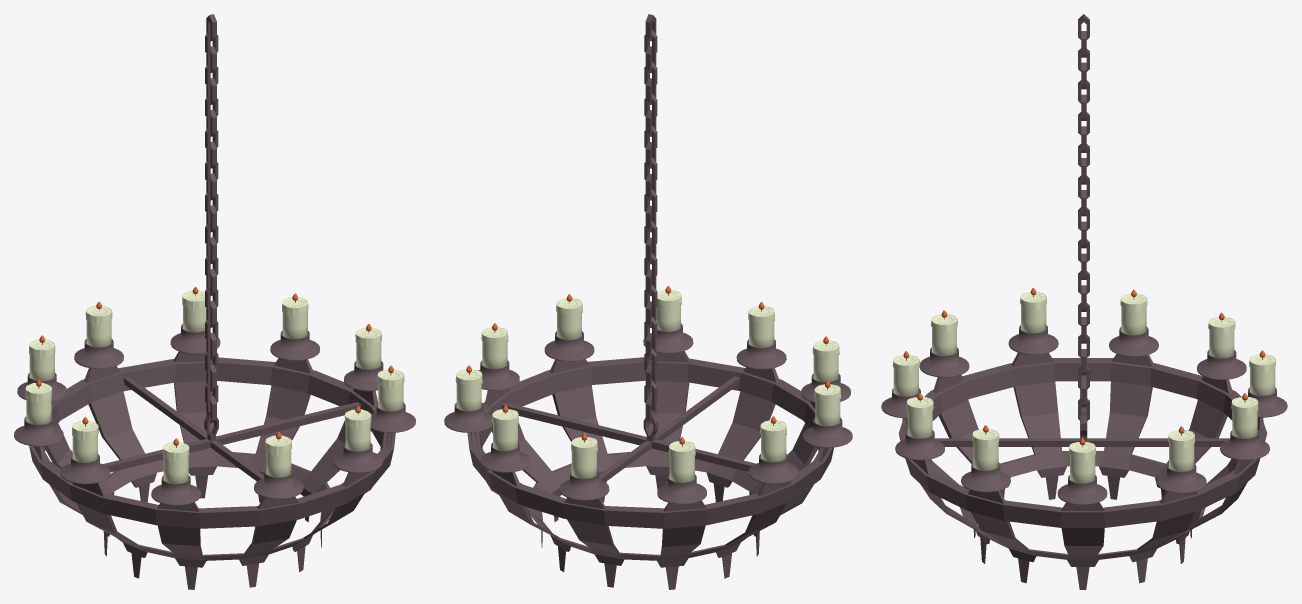
The model's file is Chandelier.fbx.
3 views of the same model, side by side, from view 1: azimuth 30°, elevation 25°; view 2: azimuth 150°, elevation 25°; view 3: azimuth 270°, elevation 25° (orthographic).
Visible parts, largest first — view 1: Base_Chandelier, Cube.006, SupportChandellier, Chandelle_9, Chandelle_11, Chandelle_8, Chandelle_4, Chandelle_2, Chandelle_7, Chandelle_10, Chandelle_6, Chandelle_3 (+13 smaller); view 2: Base_Chandelier, Cube.006, SupportChandellier, Chandelle_1, Chandelle_8, Chandelle_10, Chandelle_11, Chandelle_2, Chandelle_3, Chandelle_6, Chandelle_4, Chandelle_5 (+13 smaller); view 3: Base_Chandelier, Cube.006, SupportChandellier, Chandelle_6, Chandelle_7, Chandelle_3, Chandelle_4, Chandelle_11, Chandelle_9, Chandelle_1, Chandelle_10, Chandelle_5 (+13 smaller).
Part boxes in pixels (left/top/right/bottom): Base_Chandelier: left=29, top=351, right=395, bottom=589; Cube.006: left=205, top=14, right=218, bottom=423; SupportChandellier: left=103, top=377, right=360, bottom=481; Chandelle_9: left=151, top=475, right=200, bottom=505; Chandelle_11: left=14, top=416, right=63, bottom=446; Chandelle_8: left=254, top=469, right=303, bottom=499; Chandelle_4: left=270, top=330, right=319, bottom=360; Chandelle_2: left=74, top=339, right=123, bottom=368; Chandelle_7: left=333, top=443, right=382, bottom=472; Chandelle_10: left=60, top=454, right=110, bottom=484; Chandelle_6: left=370, top=403, right=415, bottom=432; Chandelle_3: left=170, top=324, right=220, bottom=353; Base_Chandelier: left=467, top=351, right=833, bottom=589; Cube.006: left=644, top=14, right=657, bottom=423; SupportChandellier: left=501, top=376, right=755, bottom=481; Chandelle_1: left=657, top=474, right=706, bottom=504; Chandelle_8: left=736, top=339, right=786, bottom=369; Chandelle_10: left=803, top=417, right=852, bottom=447; Chandelle_11: left=748, top=454, right=798, bottom=483; Chandelle_2: left=559, top=470, right=609, bottom=500; Chandelle_3: left=480, top=442, right=530, bottom=472; Chandelle_6: left=544, top=331, right=594, bottom=361; Chandelle_4: left=444, top=402, right=492, bottom=432; Chandelle_5: left=478, top=360, right=519, bottom=390; Base_Chandelier: left=898, top=353, right=1267, bottom=589; Cube.006: left=1078, top=14, right=1089, bottom=420; SupportChandellier: left=934, top=375, right=1230, bottom=446; Chandelle_6: left=961, top=462, right=1010, bottom=492; Chandelle_7: left=895, top=430, right=944, bottom=460; Chandelle_3: left=1220, top=430, right=1269, bottom=460; Chandelle_4: left=1156, top=463, right=1206, bottom=493; Chandelle_11: left=1109, top=327, right=1158, bottom=356; Chandelle_9: left=919, top=347, right=969, bottom=377; Chandelle_1: left=1197, top=350, right=1246, bottom=379; Chandelle_10: left=1008, top=325, right=1058, bottom=354; Chandelle_5: left=1057, top=475, right=1107, bottom=504.
Bounding box in the file's own units: 371 × 535 × 373.
